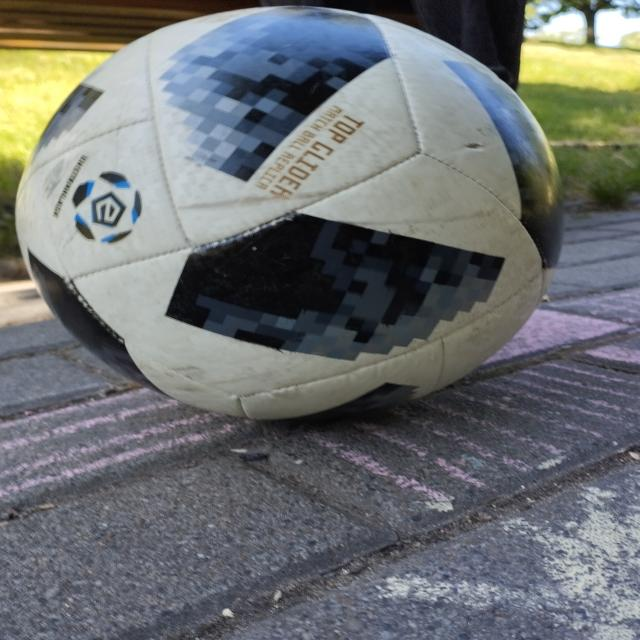nozna: (14, 4, 562, 426)
